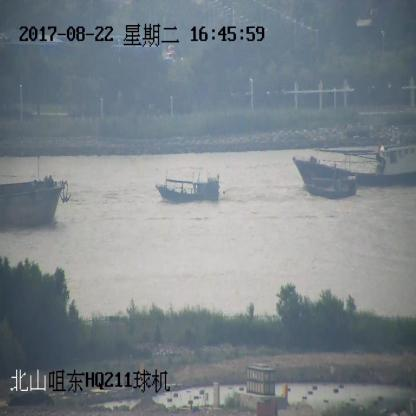Bulk Carrier: (0, 174, 67, 225)
